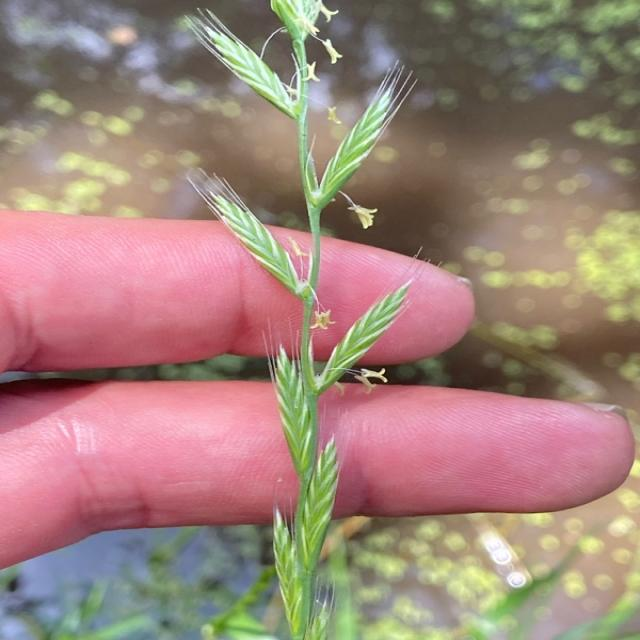Lolium: (177, 1, 424, 638)
